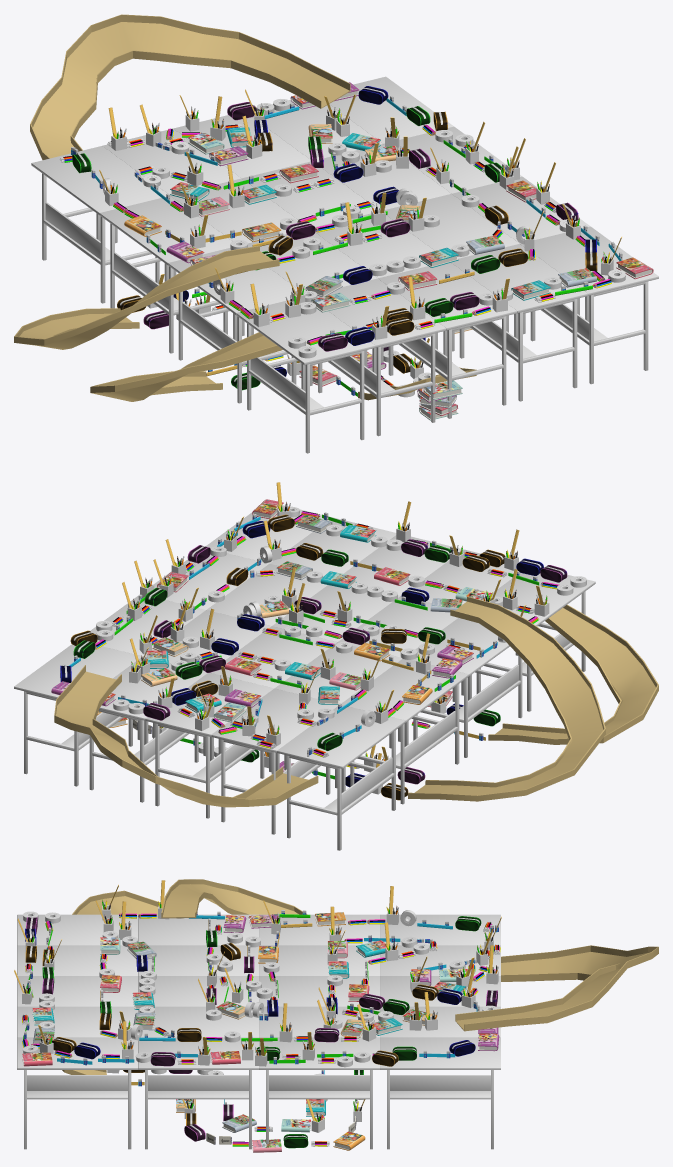
Rendered from track_1.fbx.
3 views of the same model, one above another, from view 1: azimuth 30°, elevation 25°; view 2: azimuth 150°, elevation 25°; view 3: azimuth 270°, elevation 25° (orthographic). The views are drawn at different scales.
Parts seen in each view (by area): view 1: Meja, floating road 2, Plane.001, Plane.002; view 2: Meja, Plane.001, Plane.002, floating road 2; view 3: Meja, floating road 2, Plane.001, Plane.002, buku cetak.038.
Part boxes in pixels (bbox=[...]): Meja: bbox=[31, 76, 658, 453]; floating road 2: bbox=[30, 14, 350, 159]; Plane.001: bbox=[14, 245, 279, 349]; Plane.002: bbox=[90, 332, 282, 401]; Meja: bbox=[14, 505, 595, 850]; Plane.001: bbox=[408, 596, 605, 801]; Plane.002: bbox=[488, 604, 658, 744]; floating road 2: bbox=[54, 665, 318, 807]; Meja: bbox=[17, 914, 500, 1149]; floating road 2: bbox=[455, 945, 658, 1031]; Plane.001: bbox=[161, 879, 307, 918]; Plane.002: bbox=[72, 890, 159, 914]; buku cetak.038: bbox=[333, 1131, 365, 1150].
Size of the model in its own units: 418 by 113 by 533.
